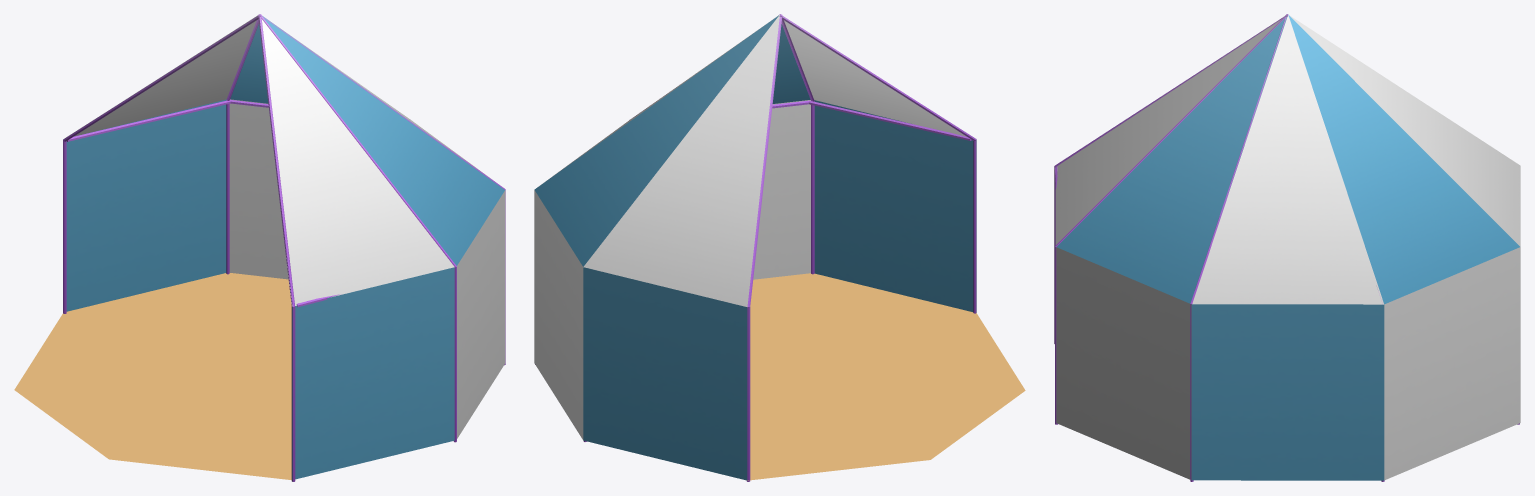
Rendered from room_walls.fbx.
3 renders of one model, left to right at view 1: azimuth 30°, elevation 25°; view 2: azimuth 150°, elevation 25°; view 3: azimuth 270°, elevation 25°, orthographic.
Parts seen in each view (by area): view 1: room_walls; view 2: room_walls; view 3: room_walls.
Boxes of the visible parts, <box> form: room_walls: <box>14,14,505,481</box>; room_walls: <box>534,14,1025,481</box>; room_walls: <box>1054,14,1520,481</box>.
Bounding box in the file's own units: 615 × 539 × 617.
